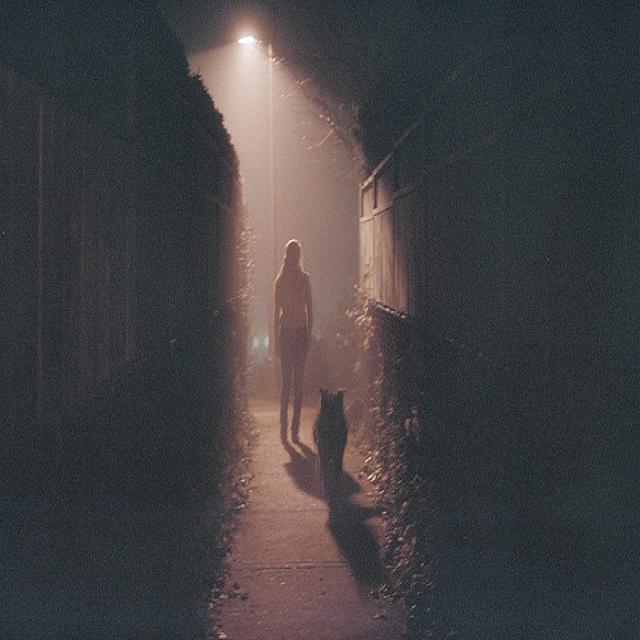Dog: (311, 367, 360, 502)
